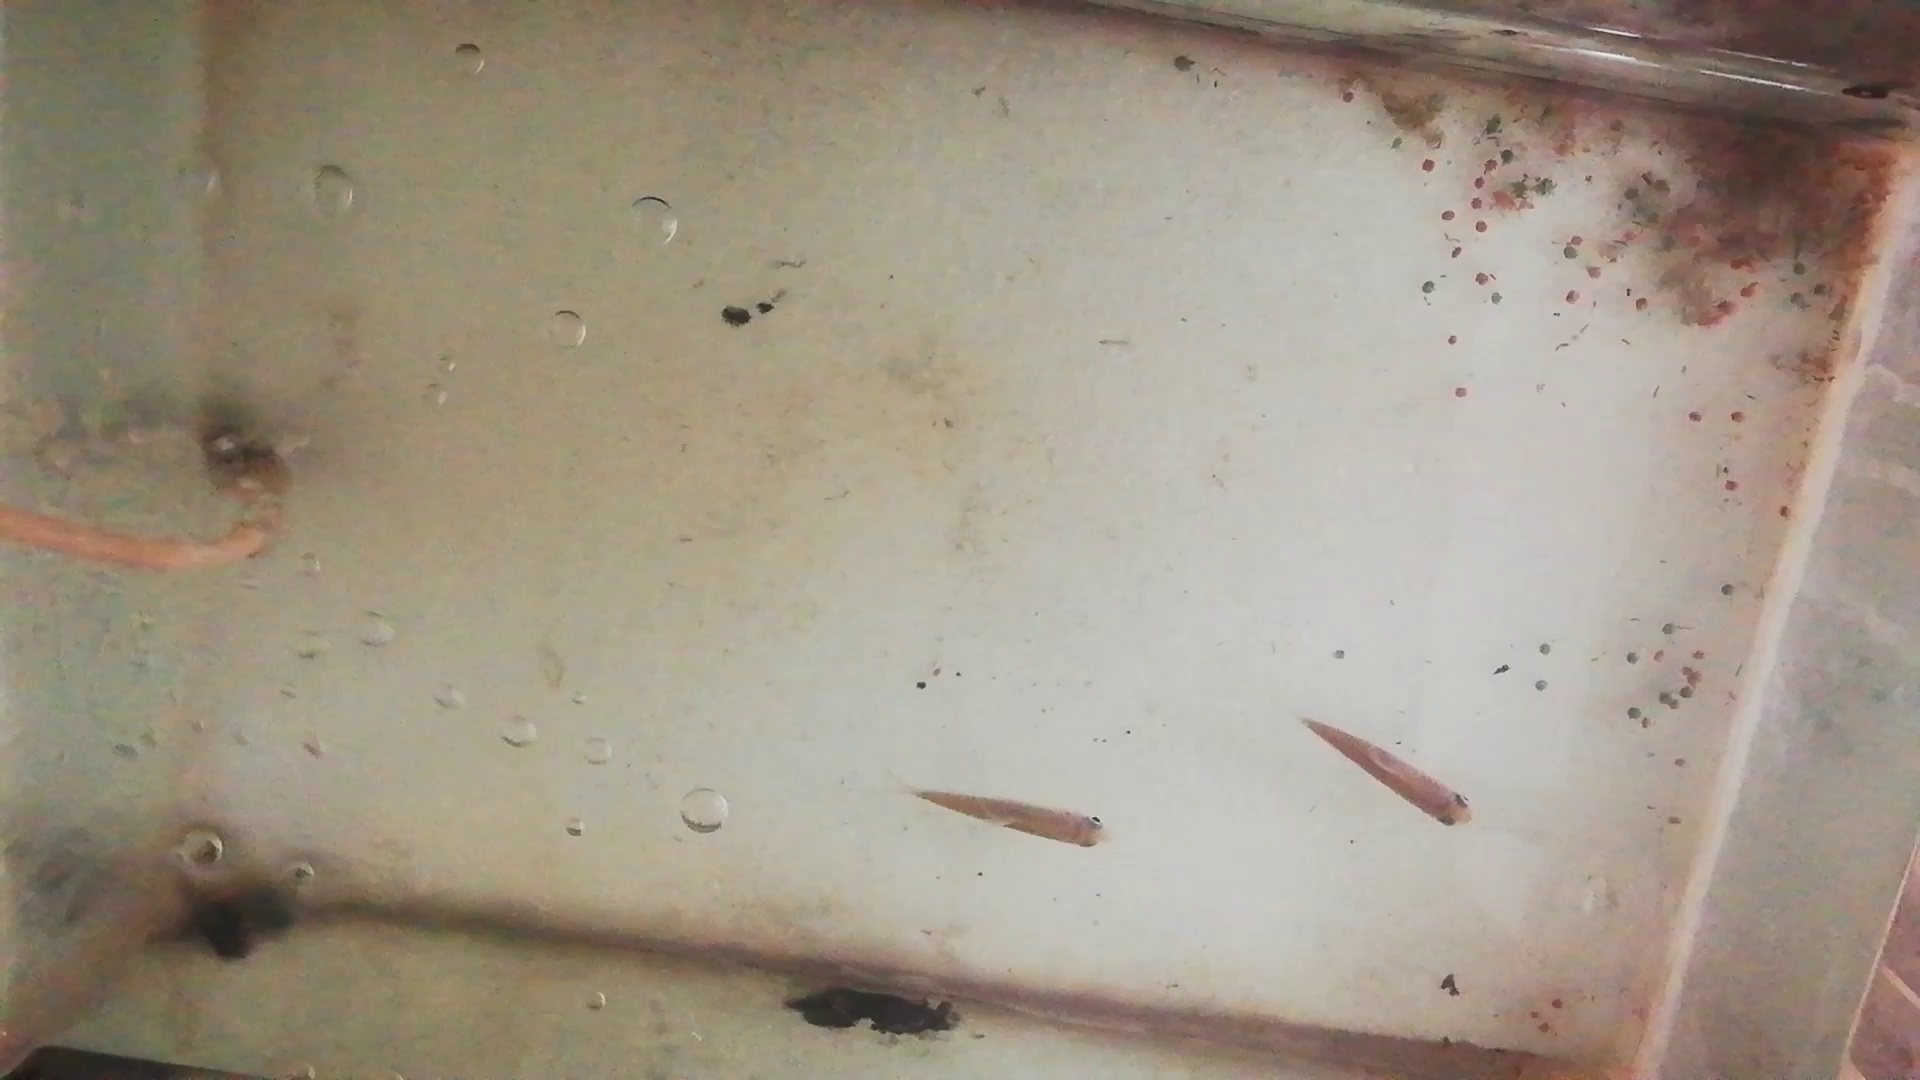fish: (1298, 719, 1478, 829), (913, 789, 1112, 852)
